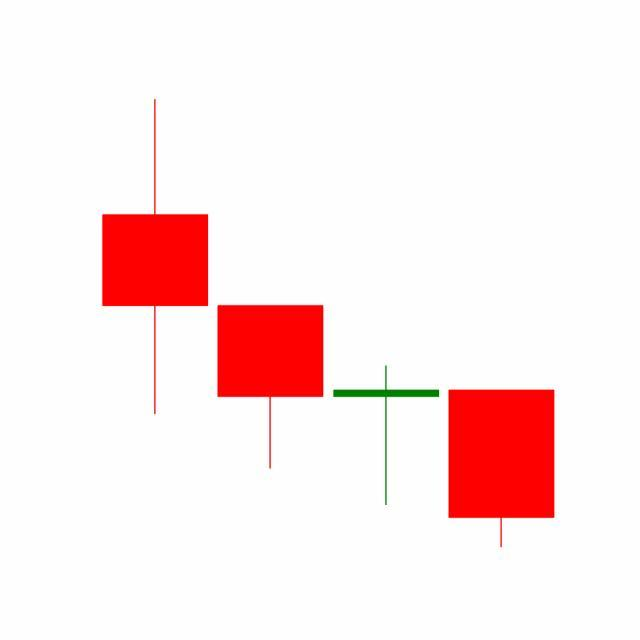Dragonfly Doji: (329, 364, 445, 508)
